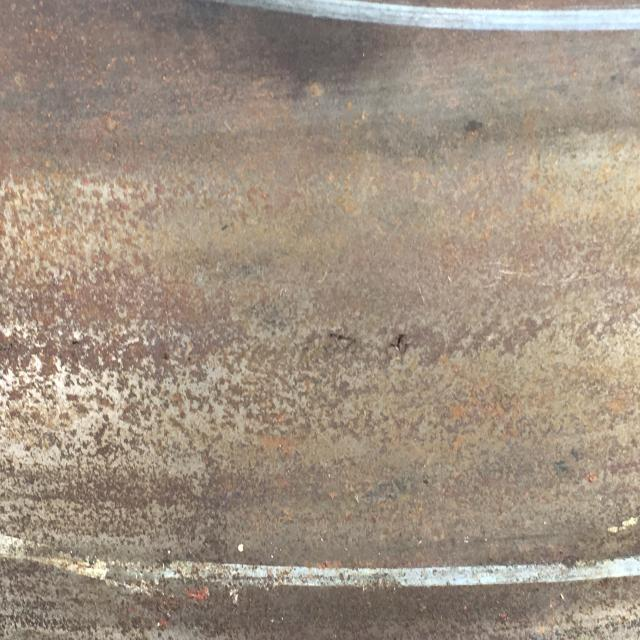Blue hole: (328, 332, 357, 353), (391, 334, 409, 356)
